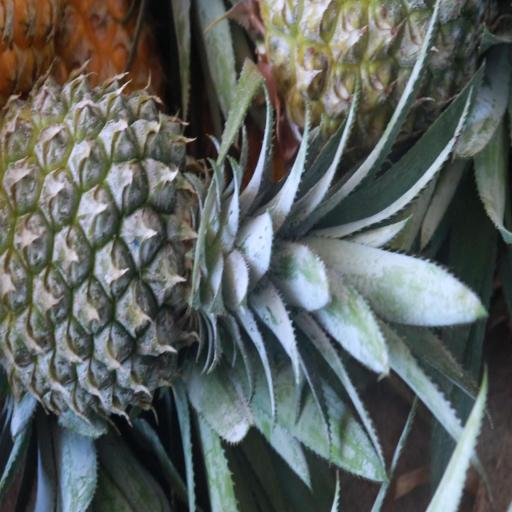------------------------------: (263, 0, 493, 148)
